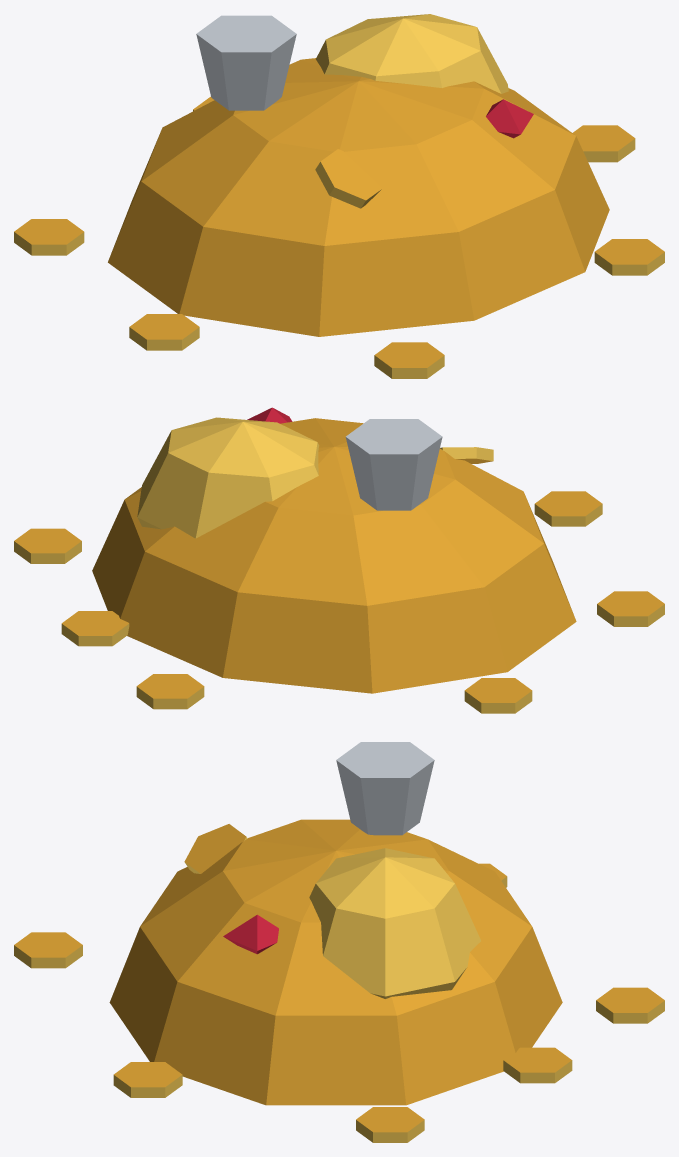
Rendered from prop_goldpile.glb.
3 renders of one model, top to bottom at view 1: azimuth 30°, elevation 25°; view 2: azimuth 150°, elevation 25°; view 3: azimuth 270°, elevation 25°, orthographic. The views are drawn at different scales.
Visible parts, largest first — view 1: prop_goldpile; view 2: prop_goldpile; view 3: prop_goldpile.
Boxes of the visible parts, x1=… form: prop_goldpile: x1=14, y1=14, x2=664, y2=378; prop_goldpile: x1=14, y1=407, x2=664, y2=713; prop_goldpile: x1=14, y1=742, x2=664, y2=1142.
Bounding box in the file's own units: 0.6578 × 0.225 × 0.6609.
Materials: 1 (1 with a texture image).
